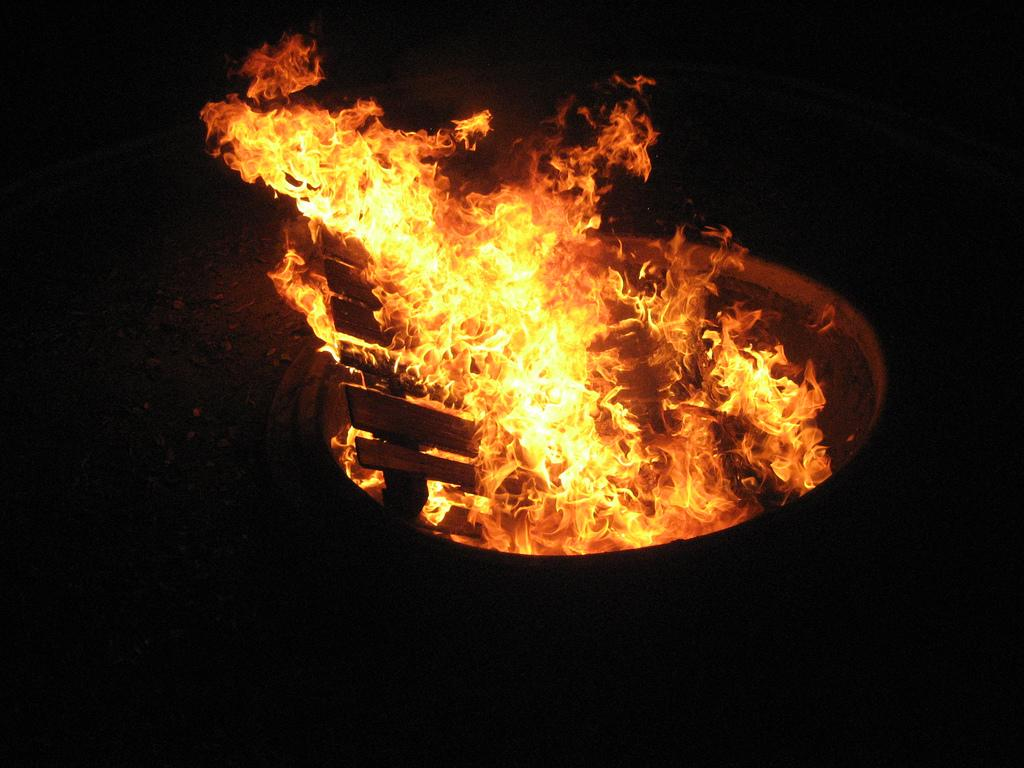fire: (504, 284, 612, 484), (308, 120, 432, 230)
